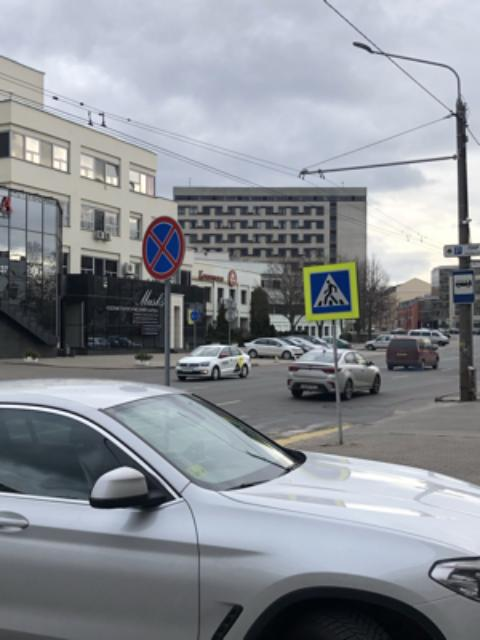crosswalk-sign: (302, 260, 361, 322)
